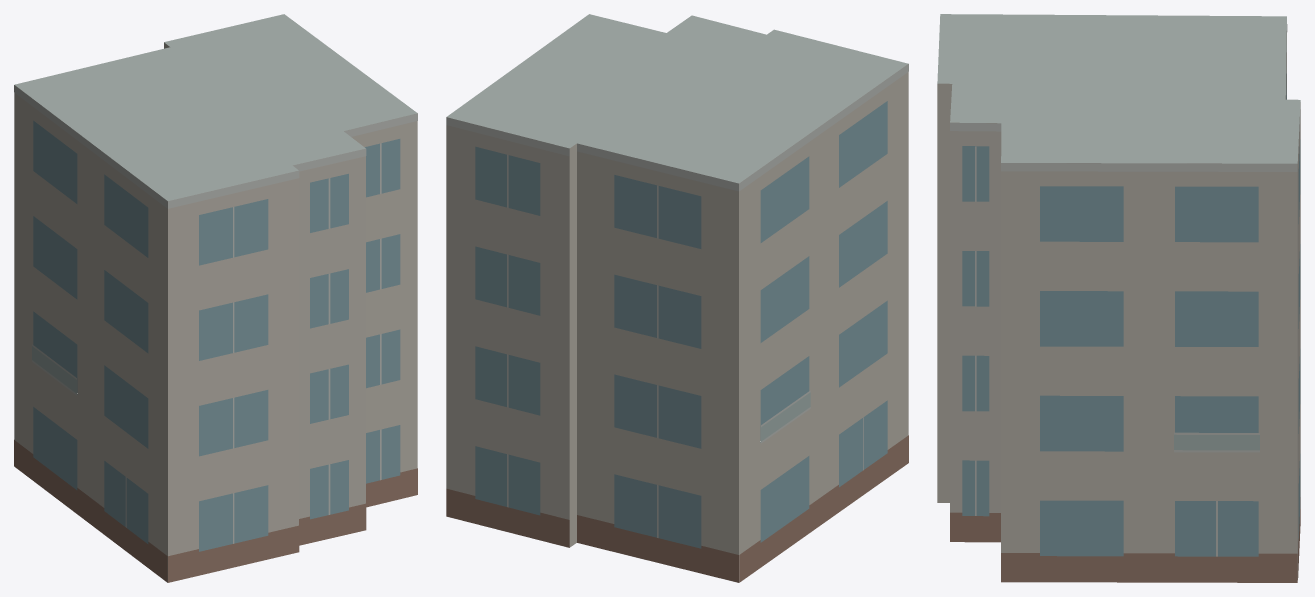
Rendered from survey-upis-32779958.glb.
The picture shows the model from 3 angles, left to right: view 1: azimuth 30°, elevation 25°; view 2: azimuth 150°, elevation 25°; view 3: azimuth 270°, elevation 25°; orthographic projection. The views are drawn at different scales.
Visible parts, largest first — view 1: survey-upis-32779958.tmp; view 2: survey-upis-32779958.tmp; view 3: survey-upis-32779958.tmp.
Part boxes in pixels (<box>): survey-upis-32779958.tmp: <box>14,14,417,582</box>; survey-upis-32779958.tmp: <box>446,14,908,582</box>; survey-upis-32779958.tmp: <box>937,14,1300,582</box>.
Bounding box in the file's own units: 9.38 × 12.2 × 9.59.
